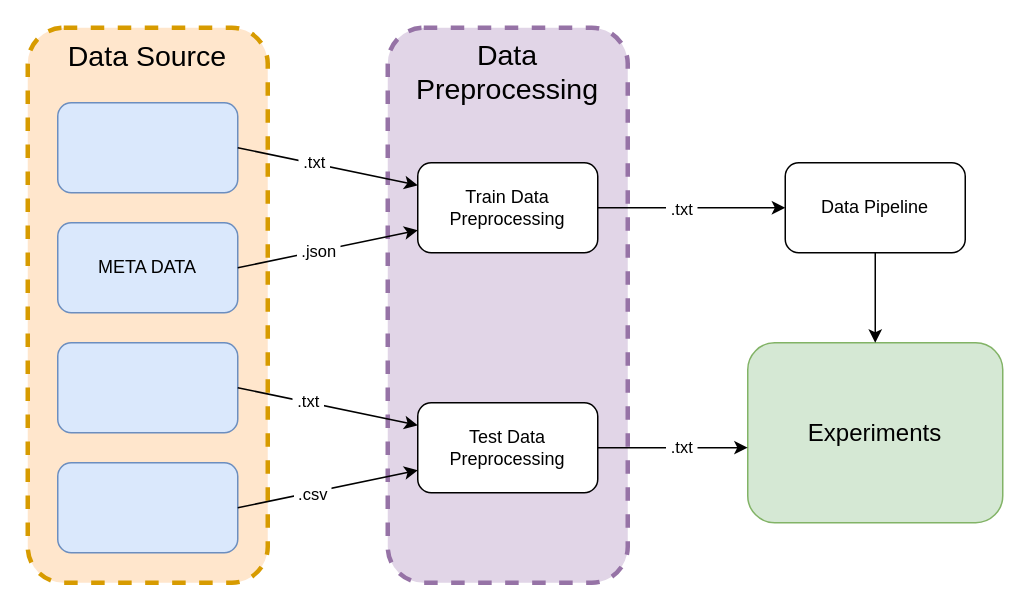
Image size: 1029x611. Some labels were removed from this diagram. Here are the shapes that lost their labels. From the top down, the centre of each, then its label:
[147,147]: TRAIN
[147,387]: TEST
[147,507]: SAMPLE SUBMISSION
